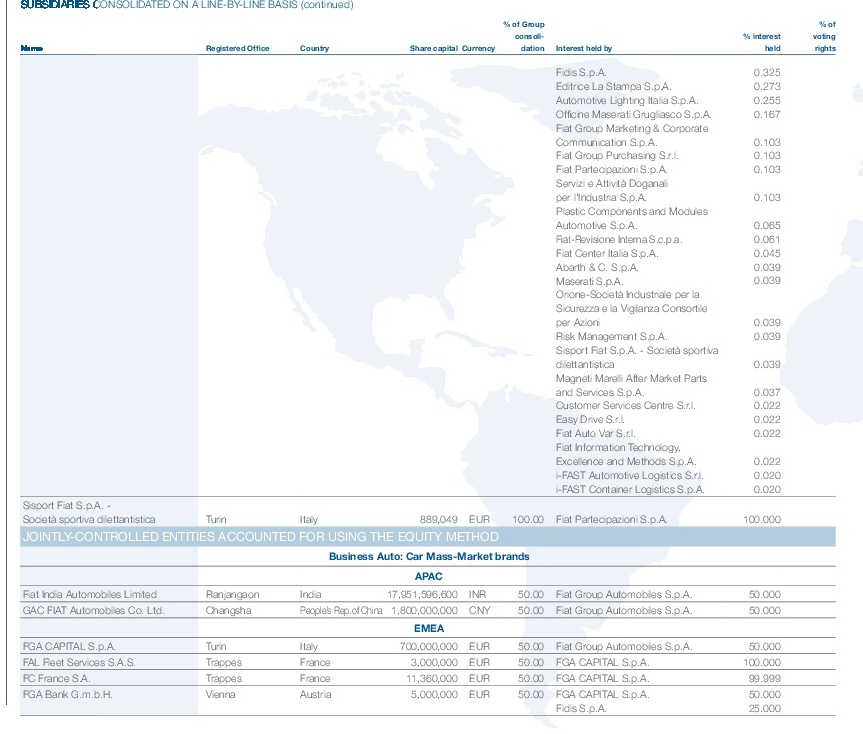table: (0, 0, 863, 734)
